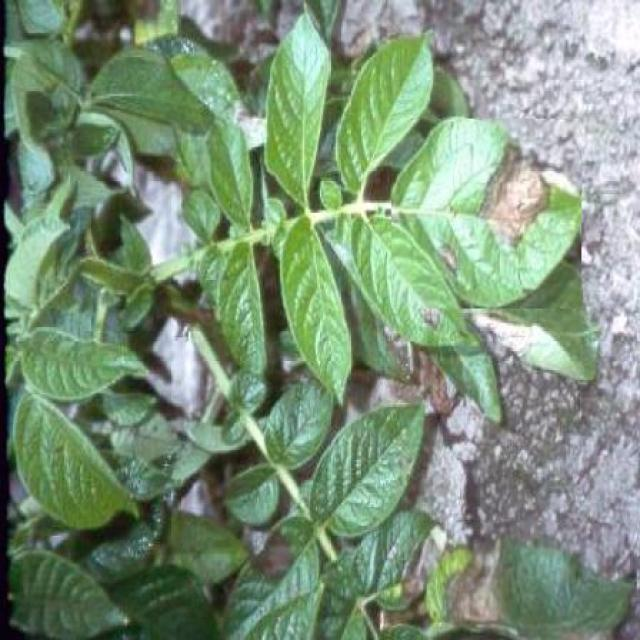Late Blight: (392, 119, 582, 308), (420, 523, 637, 640)
